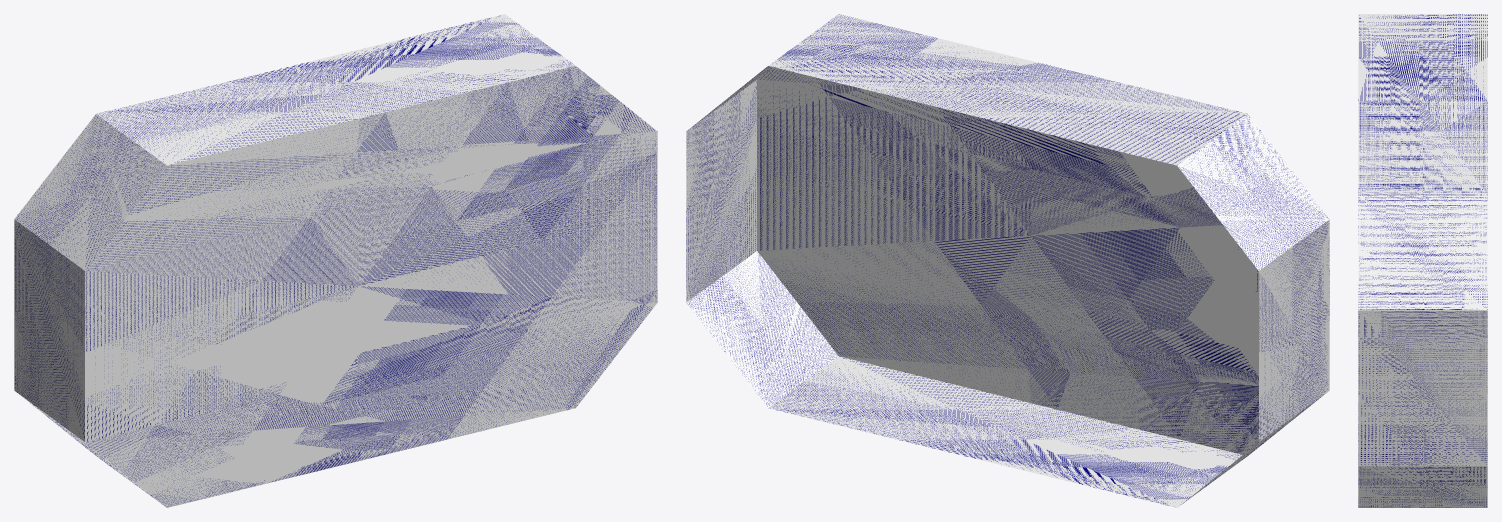
Rendered from original-173.obj.
The picture shows the model from 3 angles, left to right: view 1: azimuth 30°, elevation 25°; view 2: azimuth 150°, elevation 25°; view 3: azimuth 270°, elevation 25°; orthographic projection. The views are drawn at different scales.
Parts seen in each view (by area): view 1: mesh245/mesh245-geometry#mesh245-geometry; view 2: mesh245/mesh245-geometry#mesh245-geometry; view 3: mesh245/mesh245-geometry#mesh245-geometry.
Boxes of the visible parts, <box> form: mesh245/mesh245-geometry#mesh245-geometry: <box>14,14,657,507</box>; mesh245/mesh245-geometry#mesh245-geometry: <box>686,14,1329,507</box>; mesh245/mesh245-geometry#mesh245-geometry: <box>1358,14,1487,507</box>.
Bounding box in the file's own units: 0.0788 × 0.045 × 0.0169.
